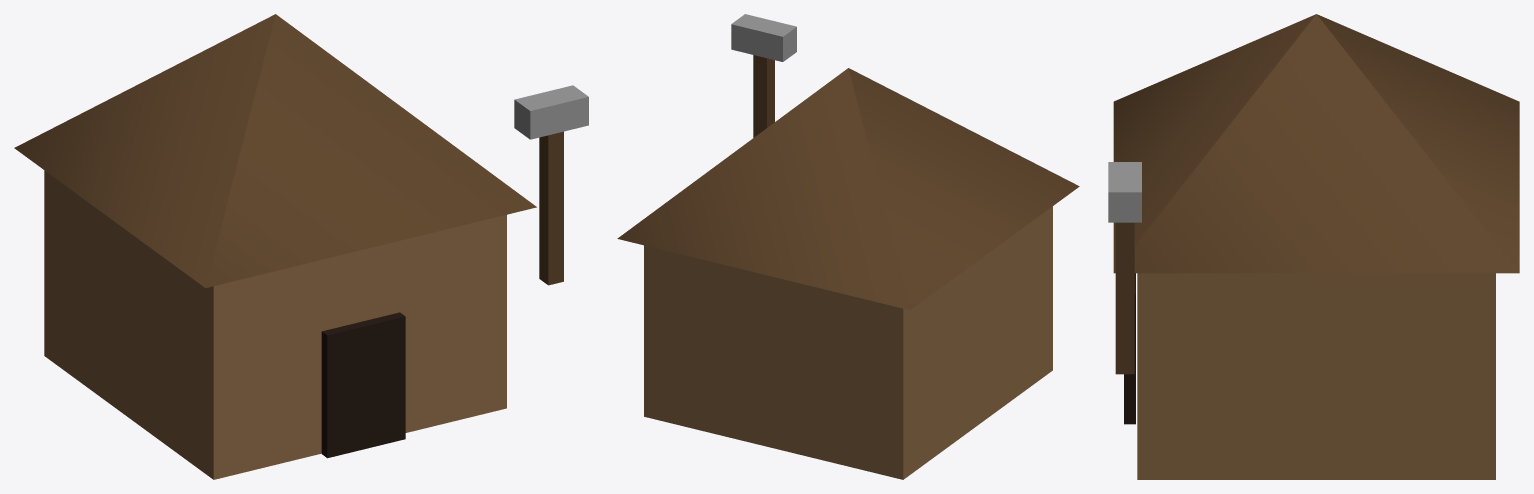
File: level1.glb
3 renders of one model, left to right at view 1: azimuth 30°, elevation 25°; view 2: azimuth 150°, elevation 25°; view 3: azimuth 270°, elevation 25°, orthographic. The views are drawn at different scales.
Size of the model in its own units: 1.95 by 1.8 by 1.72.
